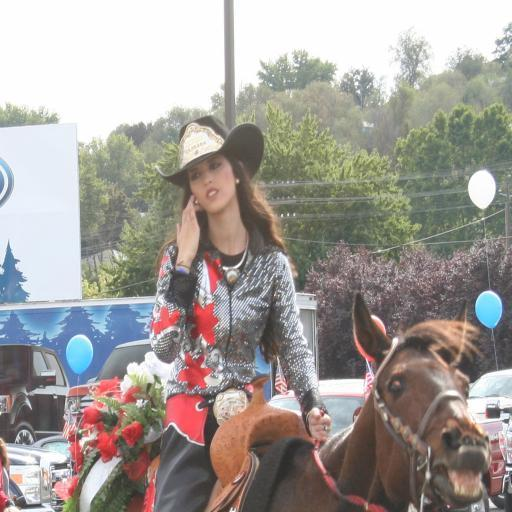horse: (124, 288, 490, 512)
